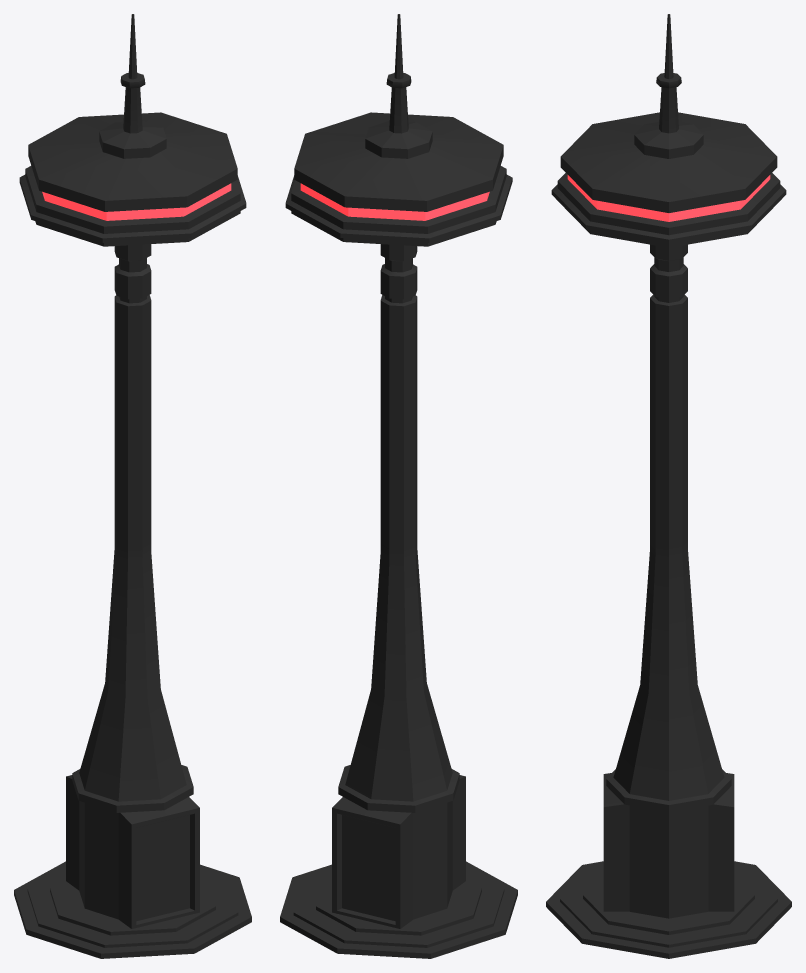
The model's file is towerB.fbx.
The picture shows the model from 3 angles, left to right: view 1: azimuth 30°, elevation 25°; view 2: azimuth 150°, elevation 25°; view 3: azimuth 270°, elevation 25°; orthographic projection.
Parts seen in each view (by area): view 1: SM_Bld_Large_06; view 2: SM_Bld_Large_06; view 3: SM_Bld_Large_06.
Part boxes in pixels (bbox=[...]): SM_Bld_Large_06: bbox=[14, 14, 251, 958]; SM_Bld_Large_06: bbox=[280, 14, 517, 958]; SM_Bld_Large_06: bbox=[546, 14, 791, 958].
Size of the model in its own units: 771 by 3087 by 771.
